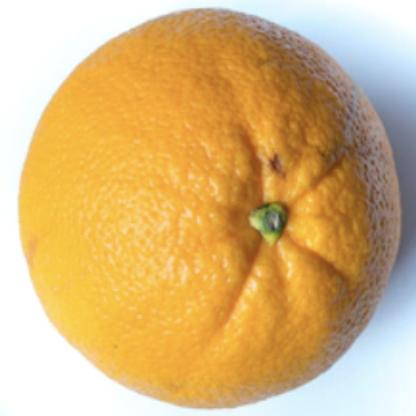fresh: (14, 8, 398, 410)
